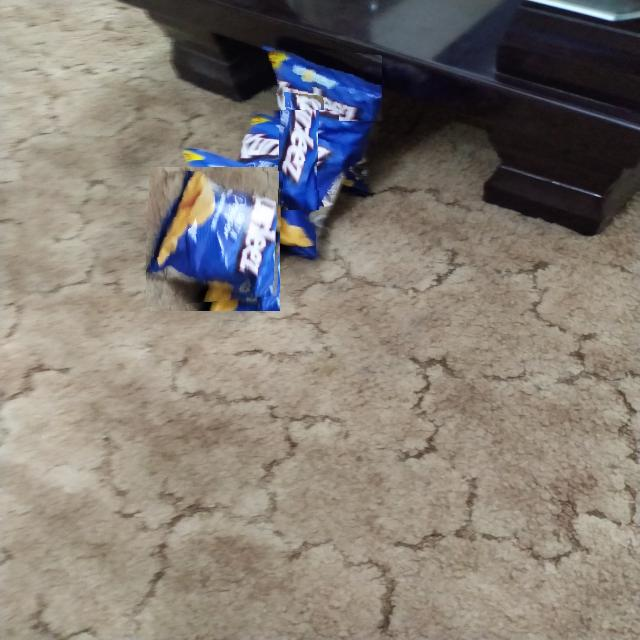Plastic: (146, 171, 284, 308), (260, 43, 382, 121), (259, 110, 339, 190)
